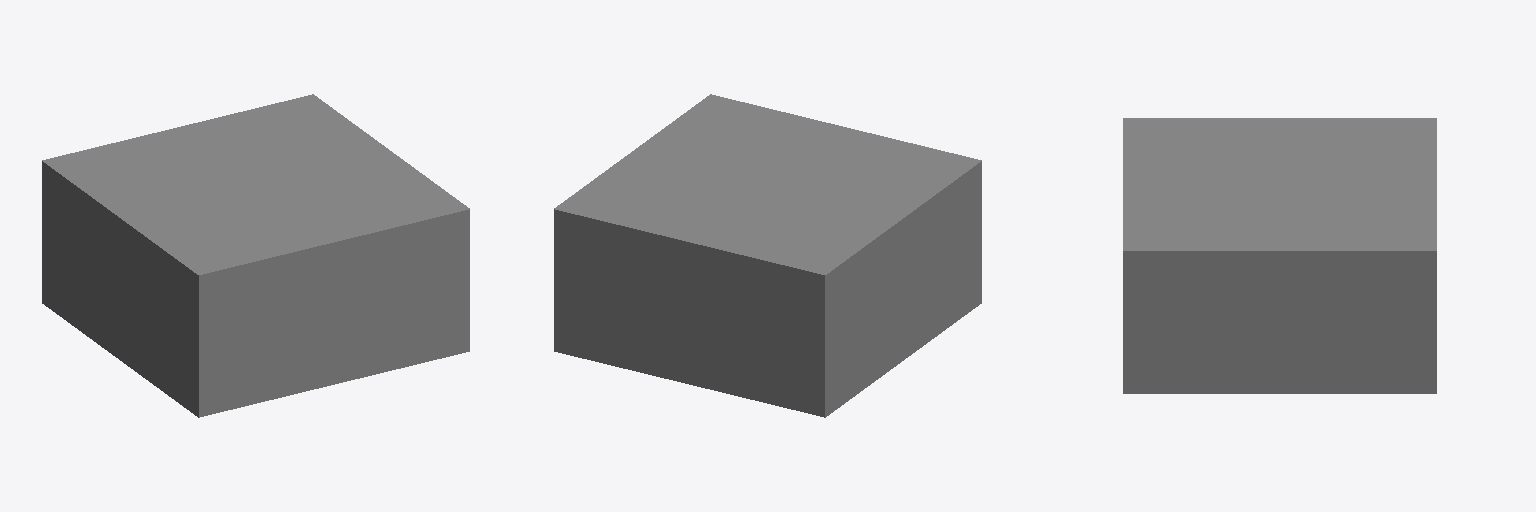
Rendered from indirect-test_mat.obj.
The picture shows the model from 3 angles: view 1: azimuth 30°, elevation 25°; view 2: azimuth 150°, elevation 25°; view 3: azimuth 270°, elevation 25°; orthographic projection.
Parts seen in each view (by area): view 1: Box001; view 2: Box001; view 3: Box001.
Part boxes in pixels (x1,y1,x2,y2): Box001: (42, 94, 469, 417); Box001: (554, 94, 981, 417); Box001: (1123, 118, 1436, 393).
Size of the model in its own units: 2 by 1 by 2.